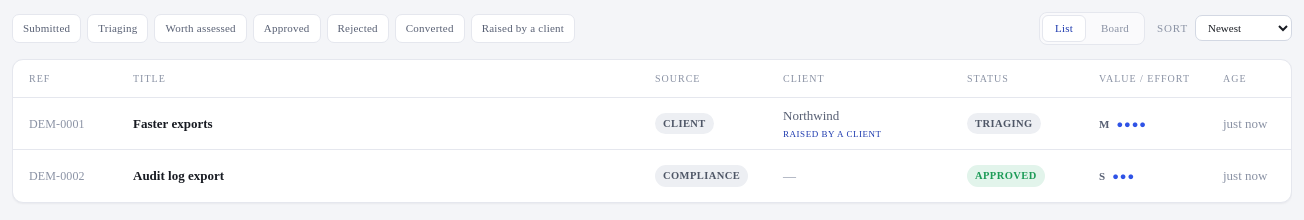
it: the status filter chip narrows the visible rows
The width and height of the screenshot is (1304, 220).
Click the button "Approved": (287, 28) [253,14,321,42]
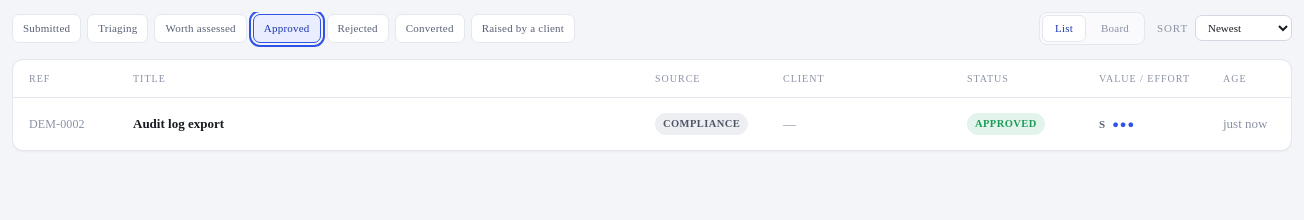
expect the text "Audit log export" is shown: met, box [133,116,224,131]
expect the text "Faster exports" is gone: met
